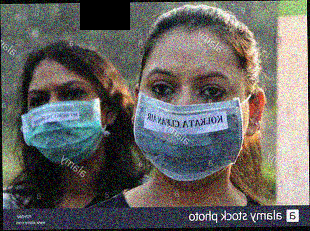with_mask: (133, 62, 249, 183), (21, 76, 105, 166)
